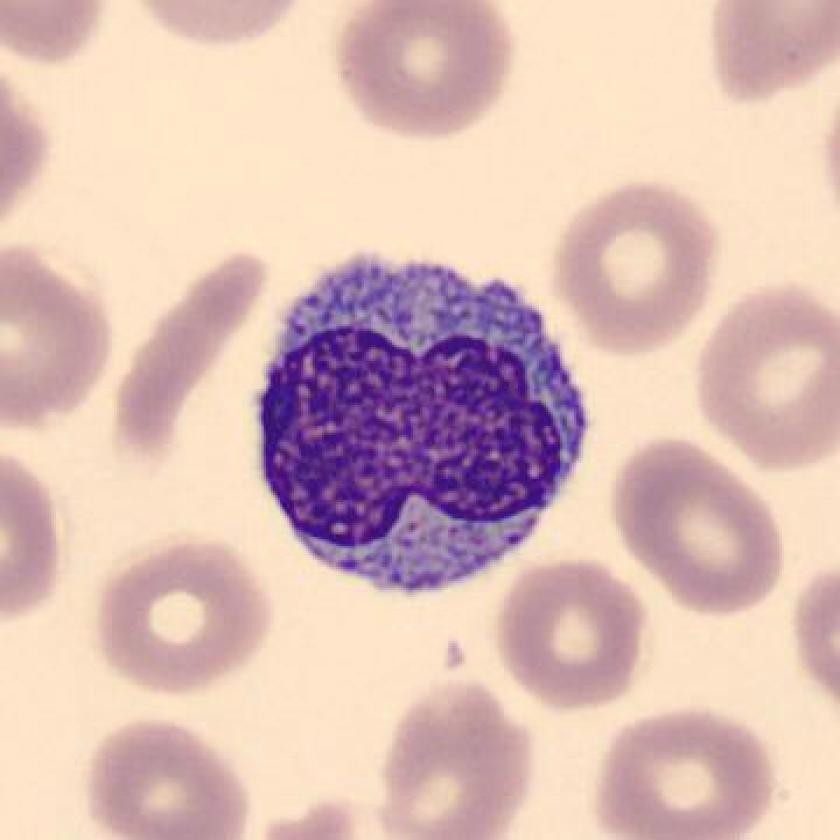monocyte: (232, 228, 608, 621)
